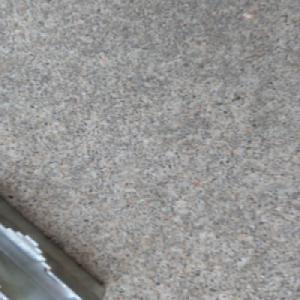ClampPart: (0, 190, 110, 300)
